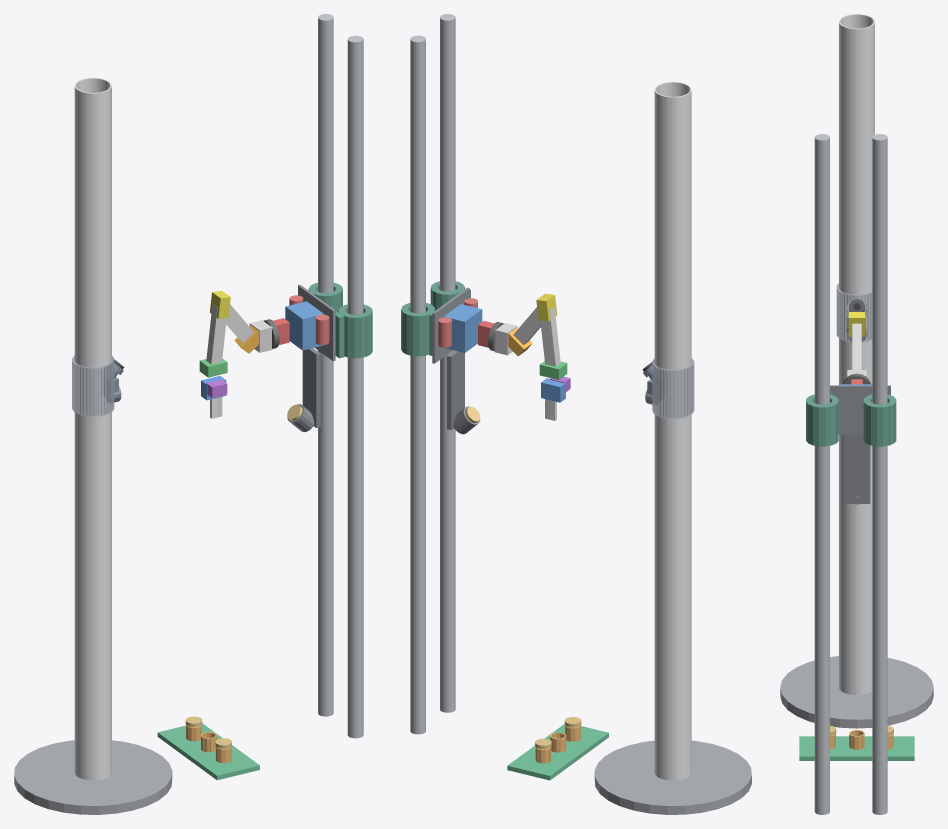
The model's file is transplant-seedling-step2-drive-v1.glb.
3 views of the same model, side by side, from view 1: azimuth 30°, elevation 25°; view 2: azimuth 150°, elevation 25°; view 3: azimuth 270°, elevation 25° (orthographic). The views are drawn at different scales.
Size of the model in its own units: 0.7641 by 1.55 by 0.32.
